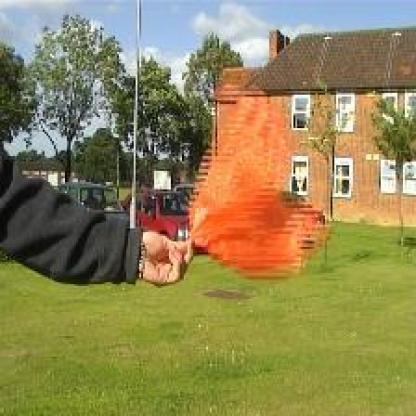other: (182, 90, 338, 284)
